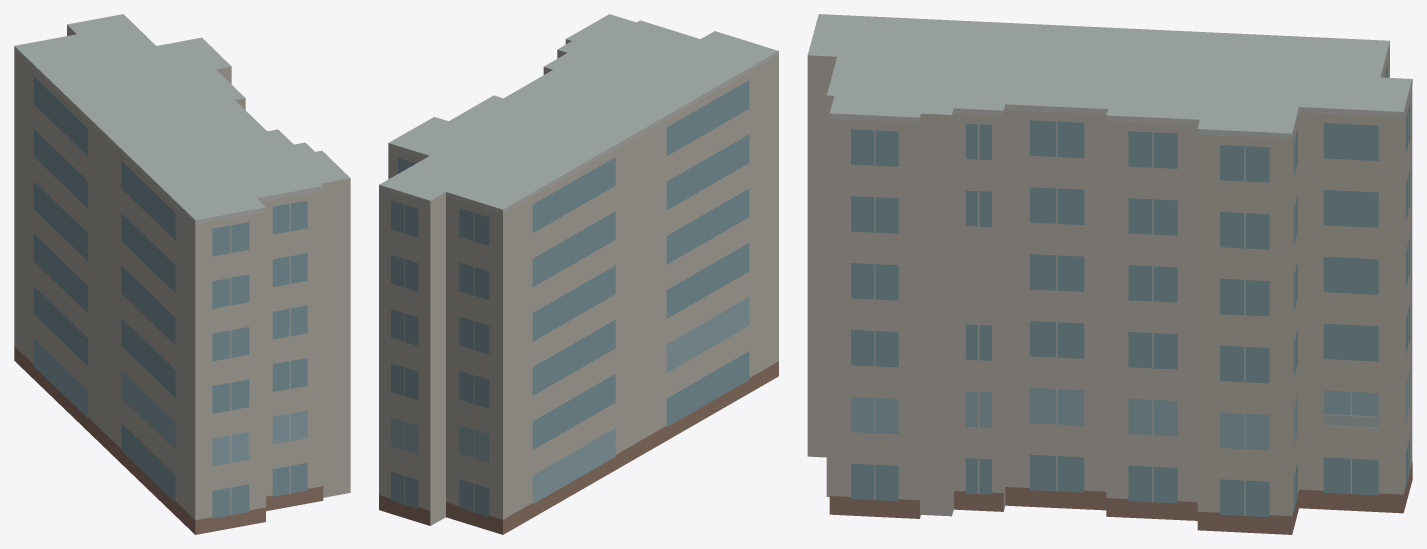
Rendered from survey-upis-32633634.glb.
3 views of the same model, side by side, from view 1: azimuth 30°, elevation 25°; view 2: azimuth 150°, elevation 25°; view 3: azimuth 270°, elevation 25° (orthographic). The views are drawn at different scales.
Parts seen in each view (by area): view 1: survey-upis-32633634.tmp; view 2: survey-upis-32633634.tmp; view 3: survey-upis-32633634.tmp.
Part boxes in pixels (x1,y1,x2,y2): survey-upis-32633634.tmp: [14, 14, 350, 534]; survey-upis-32633634.tmp: [379, 14, 778, 534]; survey-upis-32633634.tmp: [807, 14, 1412, 534].
Bounding box in the file's own units: 11.36 × 17.75 × 24.26.
